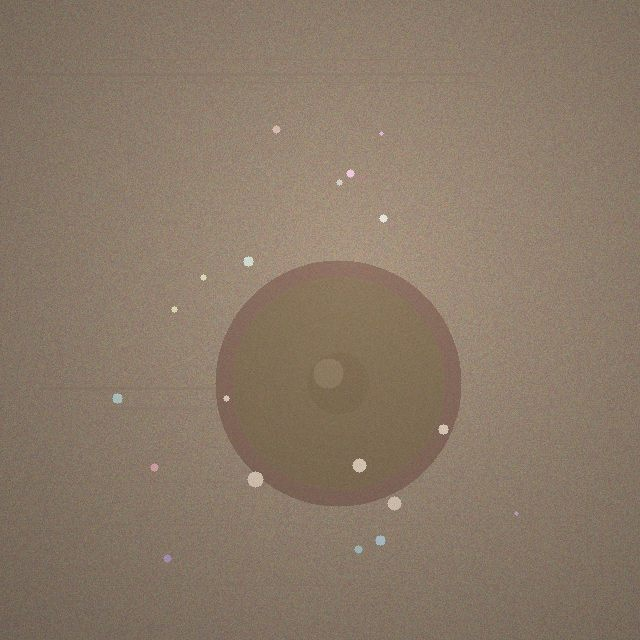overburn: (215, 260, 461, 506)
